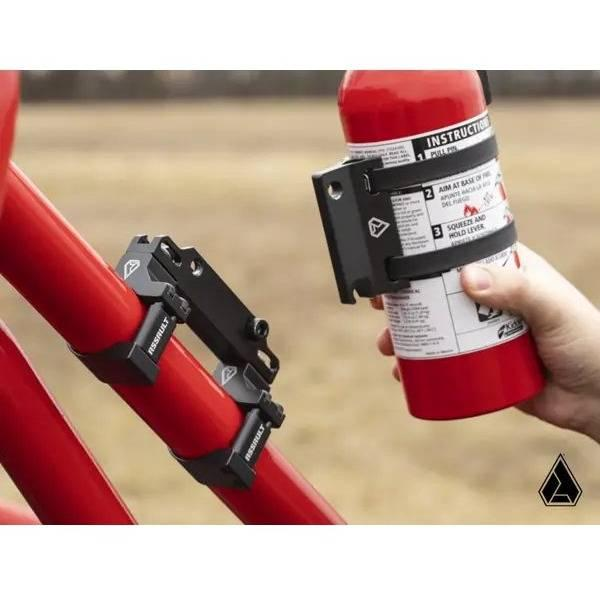Fire Extinguisher: (305, 75, 540, 423), (548, 58, 550, 73)
